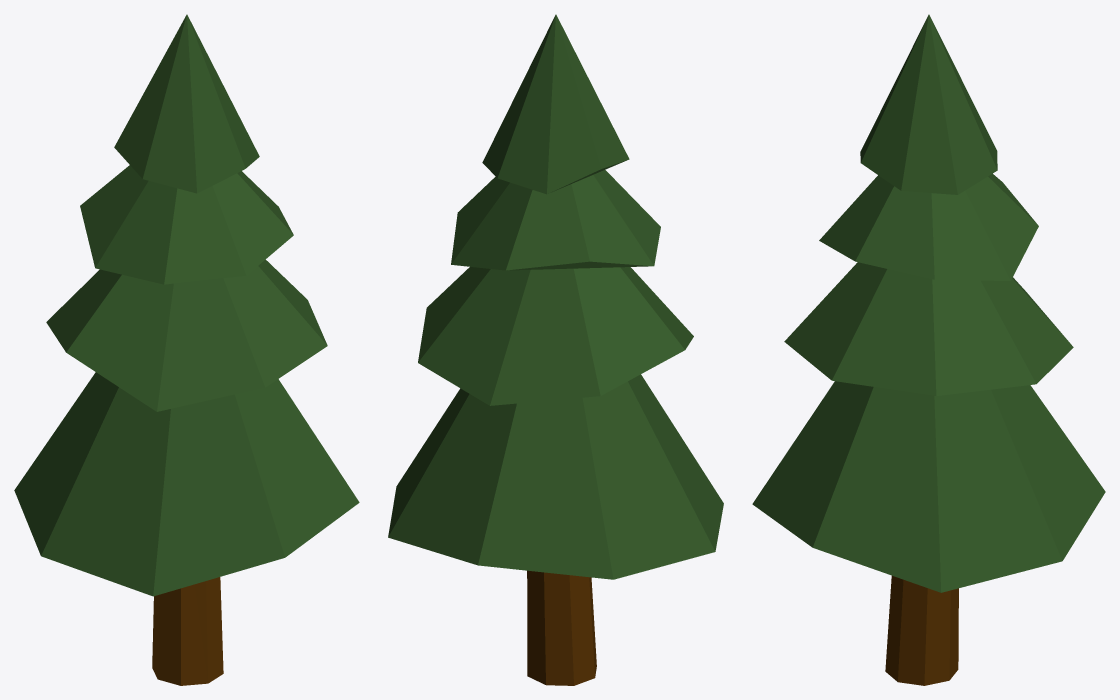
The model's file is Tree7.fbx.
3 views of the same model, side by side, from view 1: azimuth 30°, elevation 25°; view 2: azimuth 150°, elevation 25°; view 3: azimuth 270°, elevation 25° (orthographic).
Parts seen in each view (by area): view 1: Tree7; view 2: Tree7; view 3: Tree7.
Part boxes in pixels (x1=…): Tree7: x1=14, y1=14, x2=359, y2=685; Tree7: x1=388, y1=14, x2=723, y2=685; Tree7: x1=752, y1=14, x2=1105, y2=685.
Bounding box in the file's own units: 97.81 × 201 × 97.84.
